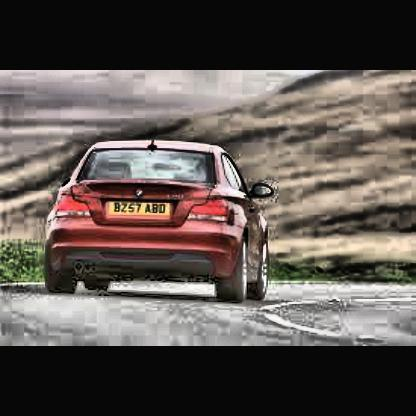BMW 1 Series Coupe 2012: (48, 130, 277, 302)
